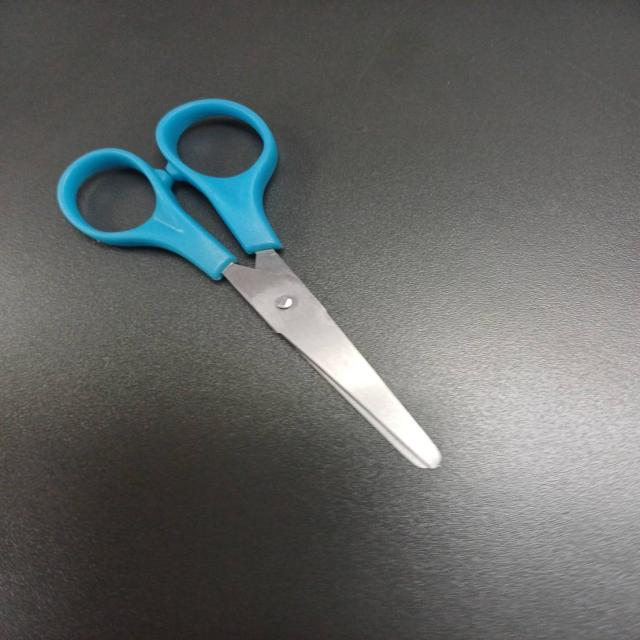scissors: (48, 89, 452, 476), (57, 99, 441, 468)
